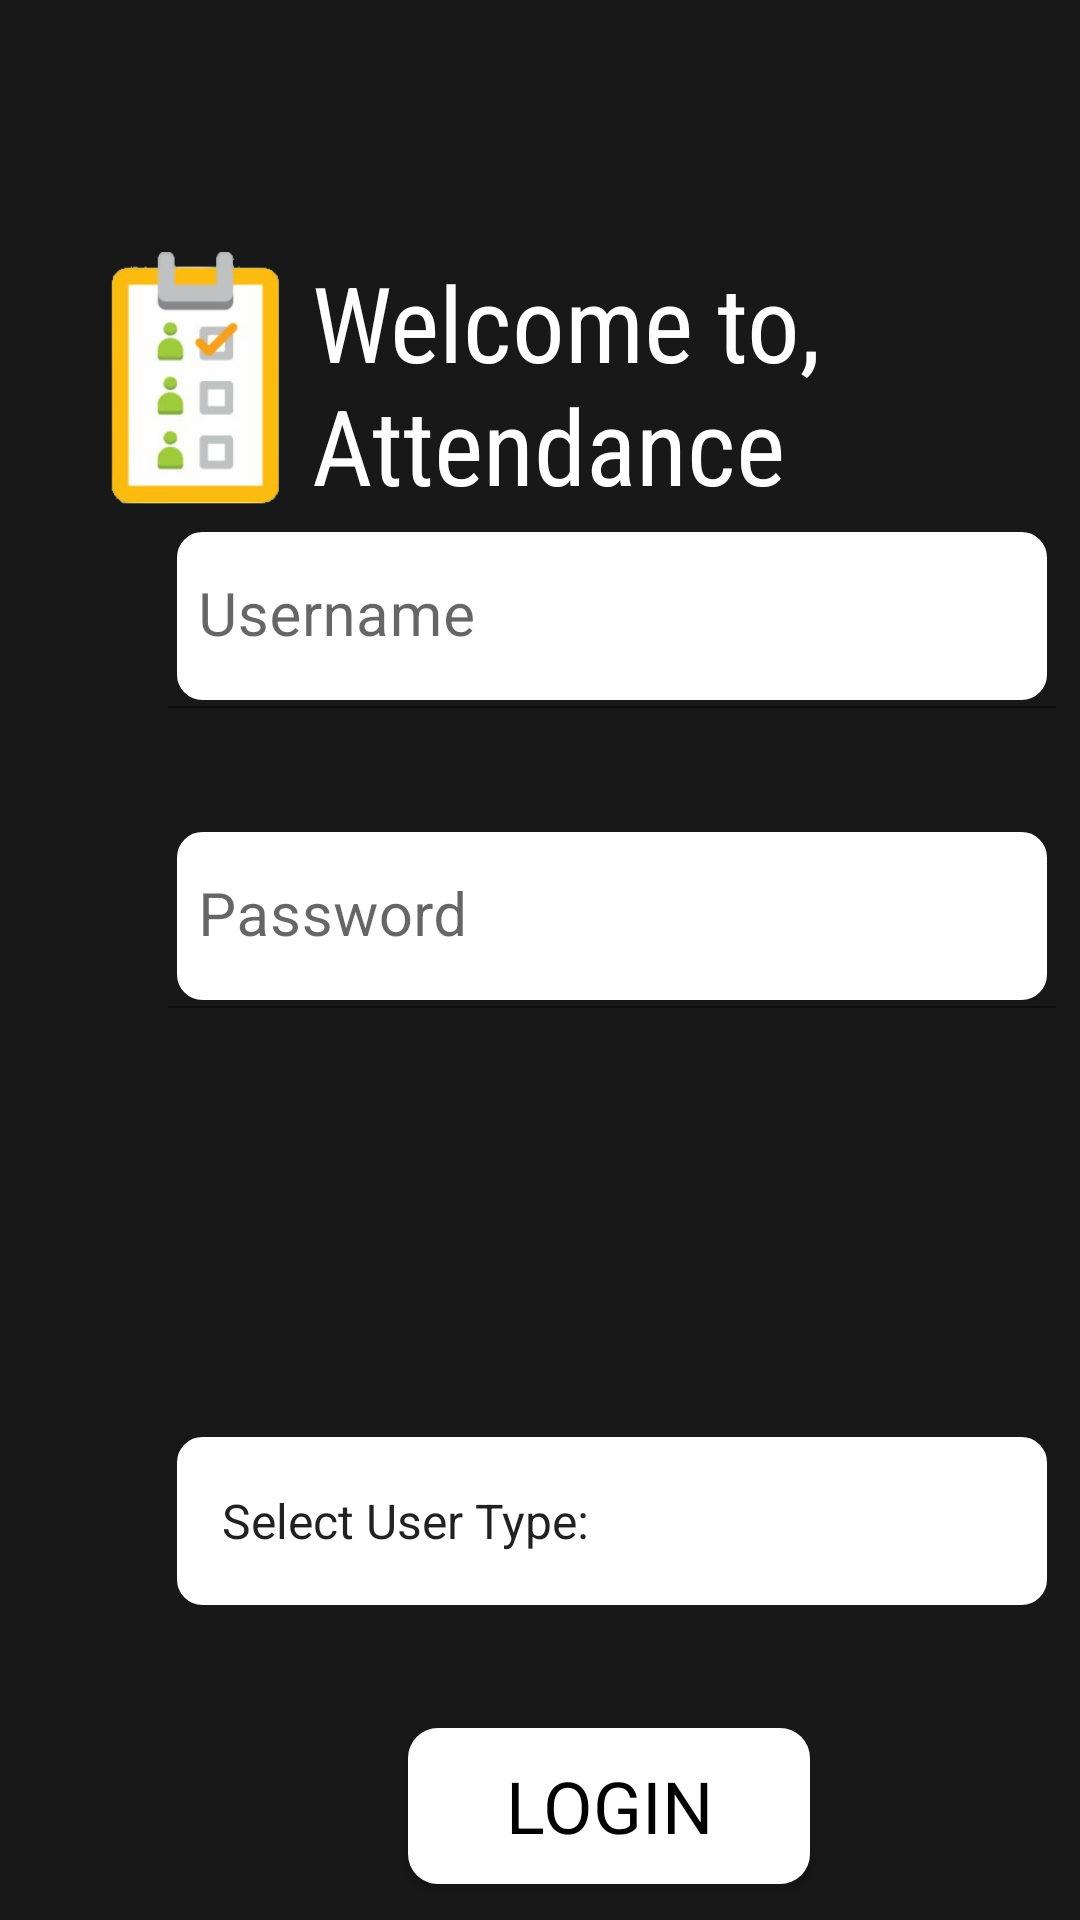

Where icons sit on this 1080w x 1920h app screen, as [left=x1, top=y1, right=x2, bottom=y2]:
attendanceicon: [left=111, top=252, right=371, bottom=504]
